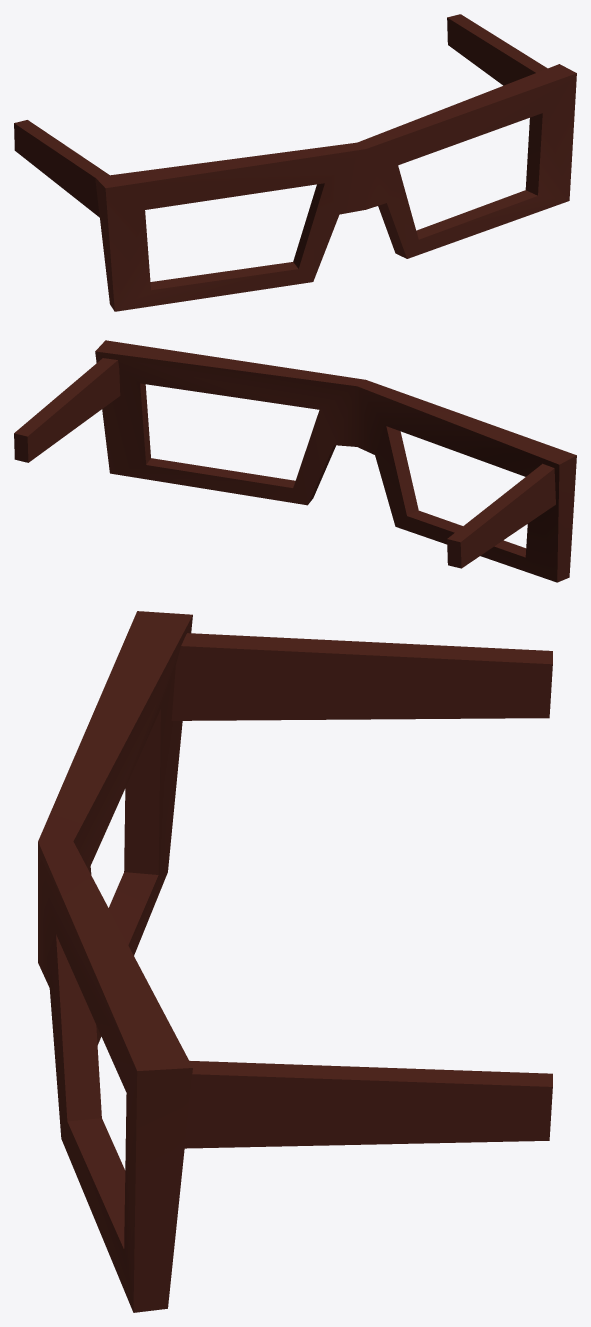
3 views of the same model, one above another, from view 1: azimuth 30°, elevation 25°; view 2: azimuth 150°, elevation 25°; view 3: azimuth 270°, elevation 25° (orthographic). The views are drawn at different scales.
Visible parts, largest first — view 1: f_head_add_glasses_A; view 2: f_head_add_glasses_A; view 3: f_head_add_glasses_A.
Part boxes in pixels (bbox=[...]): f_head_add_glasses_A: bbox=[14, 14, 576, 311]; f_head_add_glasses_A: bbox=[14, 340, 576, 582]; f_head_add_glasses_A: bbox=[38, 611, 552, 1312].
Size of the model in its own units: 0.6178 by 0.1577 by 0.2922.
